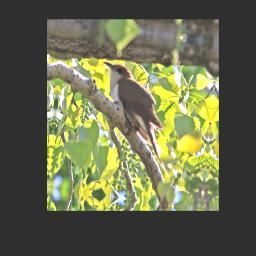Cuckoo: (93, 60, 172, 171)
